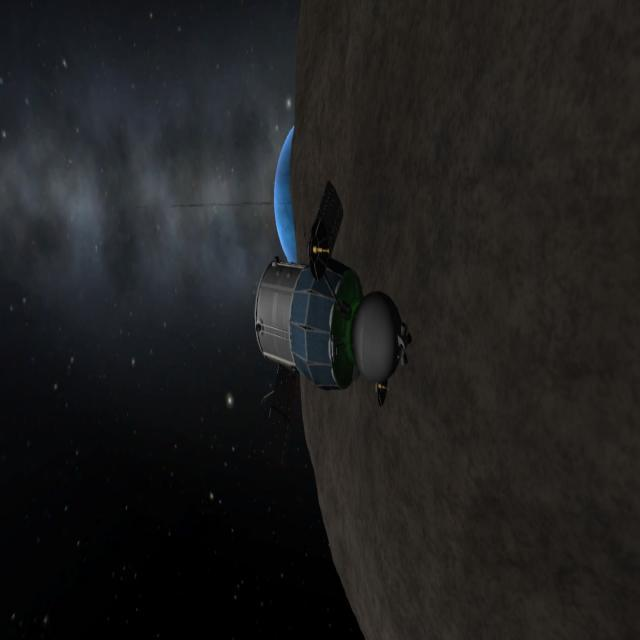sat: (240, 174, 418, 430)
